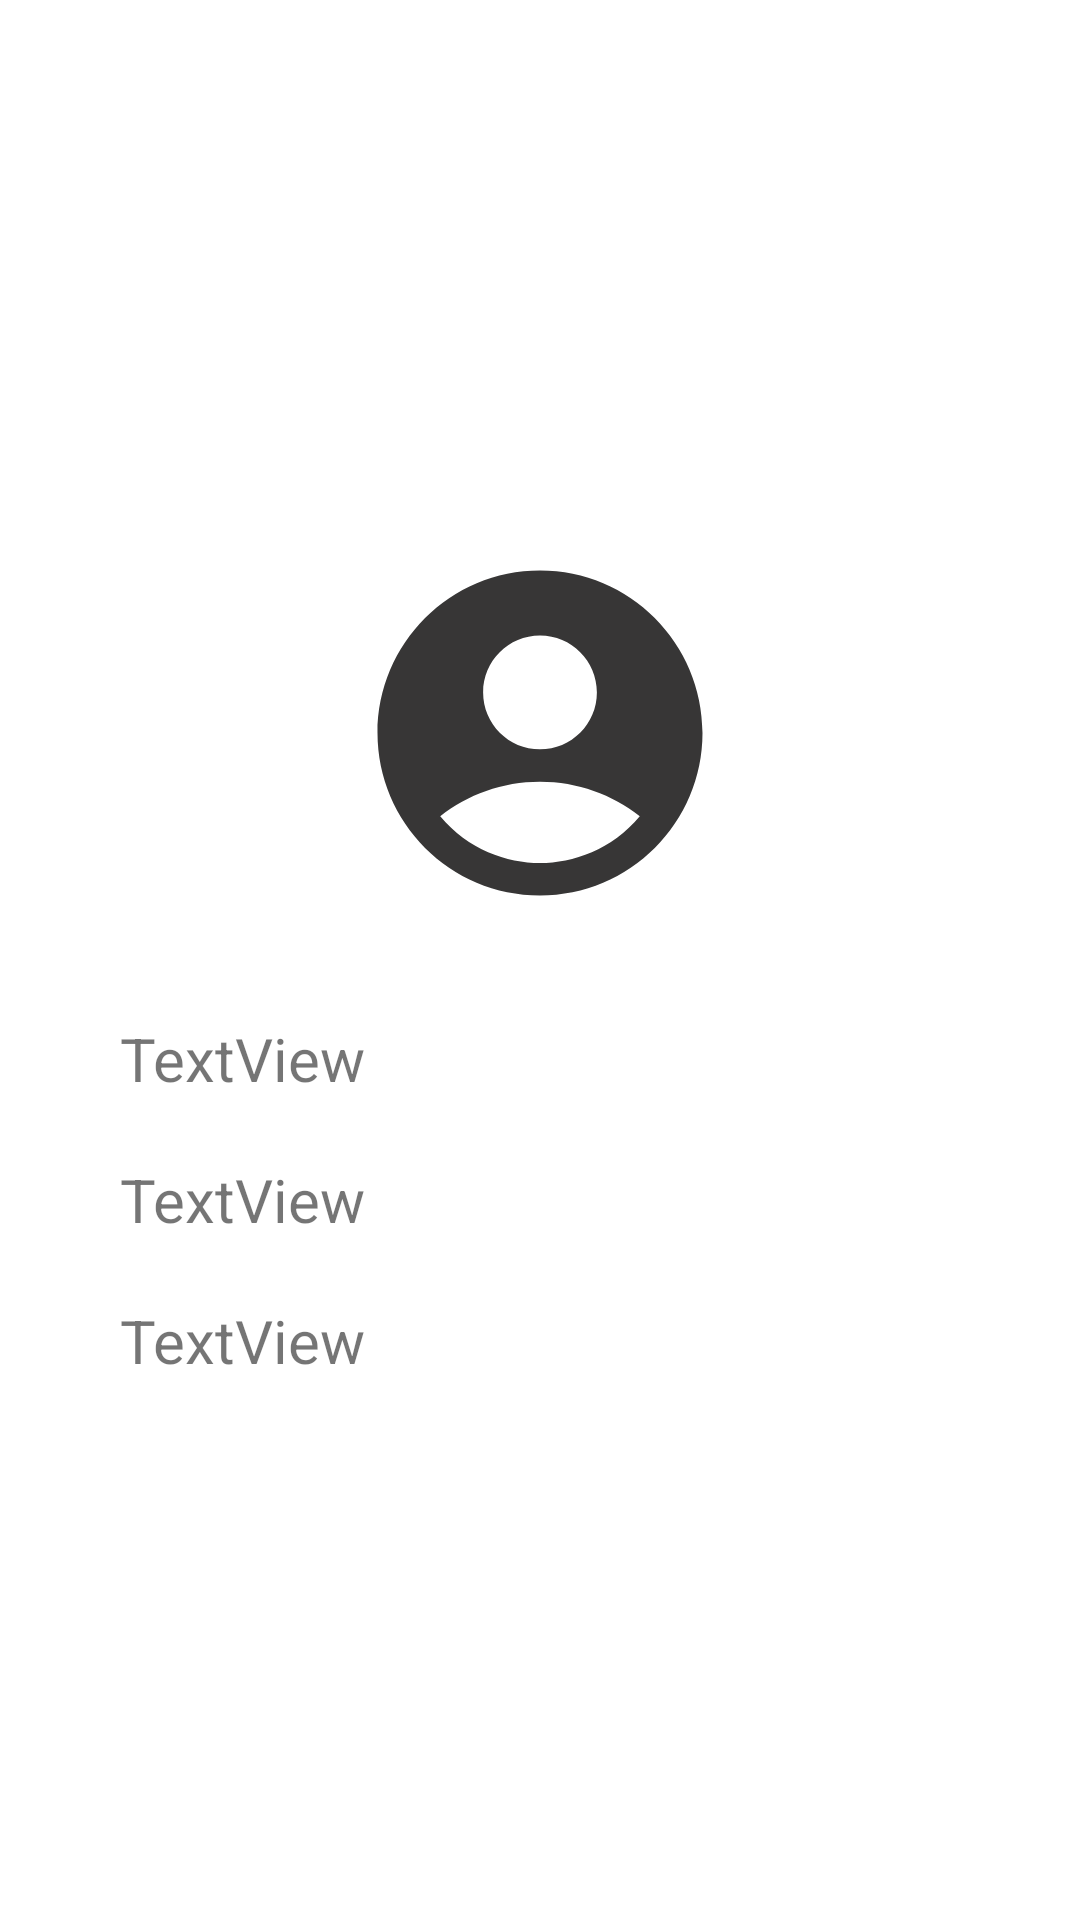

Where to tap for icons on this 1080px x 1920px app screen, as (x=x, y=y):
user: (x=540, y=733)
